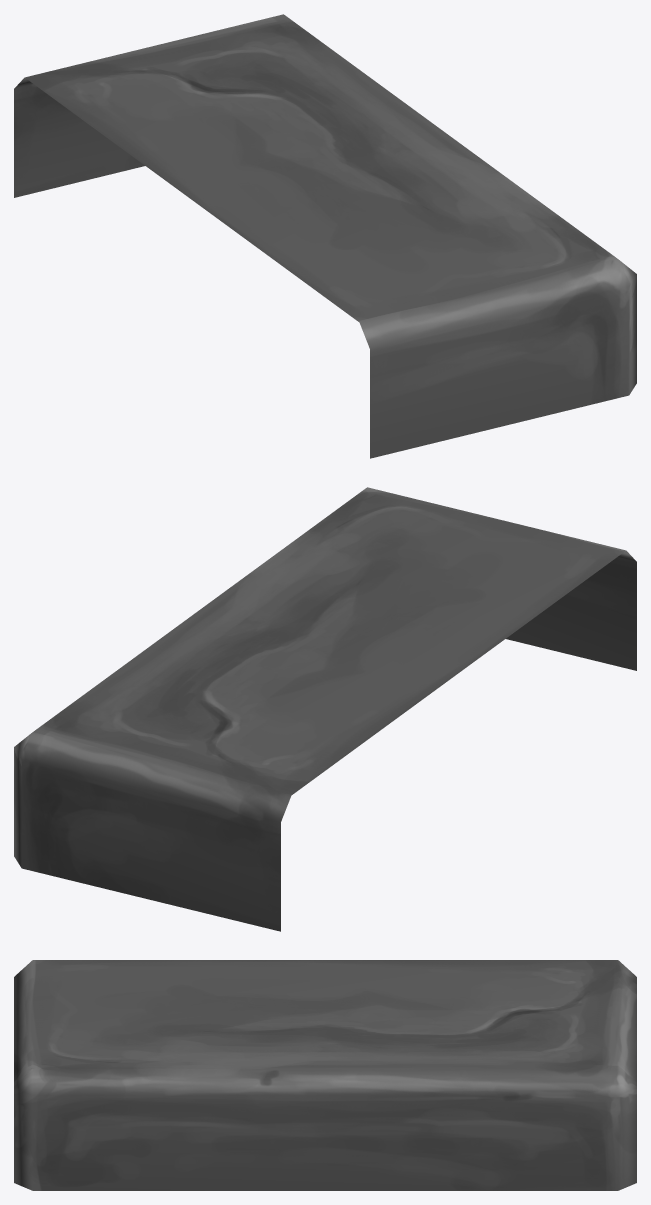
Rendered from M_Step2.fbx.
3 renders of one model, top to bottom at view 1: azimuth 30°, elevation 25°; view 2: azimuth 150°, elevation 25°; view 3: azimuth 270°, elevation 25°, orthographic. The views are drawn at different scales.
Visible parts, largest first — view 1: M_Step2; view 2: M_Step2; view 3: M_Step2.
Part boxes in pixels (x1,y1,x2,y2): M_Step2: (14, 14, 636, 458); M_Step2: (14, 487, 636, 931); M_Step2: (14, 960, 636, 1190).
Size of the model in its own units: 1.09 by 0.4833 by 2.43.
